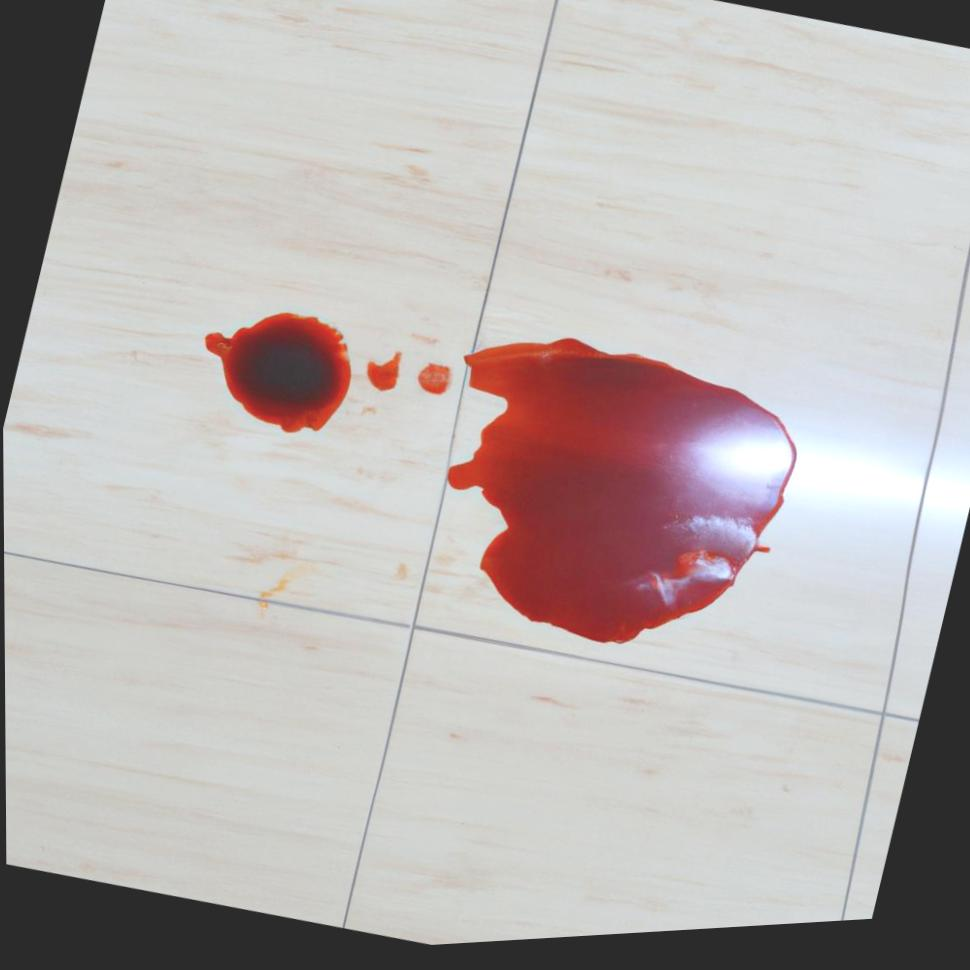Fire: (446, 344, 797, 652), (204, 315, 351, 436), (366, 355, 402, 396), (416, 367, 452, 400)
